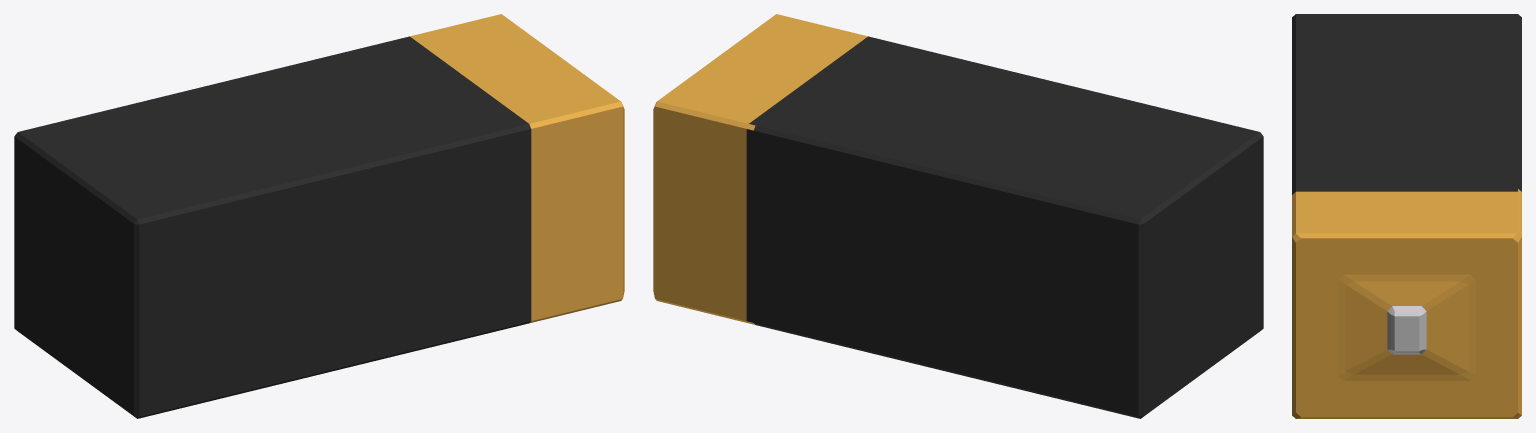
Rendered from battery_part.dae.
3 renders of one model, left to right at view 1: azimuth 30°, elevation 25°; view 2: azimuth 150°, elevation 25°; view 3: azimuth 270°, elevation 25°, orthographic. The views are drawn at different scales.
Parts seen in each view (by area): view 1: BATTERY; view 2: BATTERY; view 3: BATTERY.
Boxes of the visible parts, box(x1,y1,x2,y2) form: BATTERY: box(14, 14, 624, 418); BATTERY: box(653, 14, 1263, 418); BATTERY: box(1292, 14, 1521, 418).
Size of the model in its own units: 0.1408 by 0.0598 by 0.0533.
